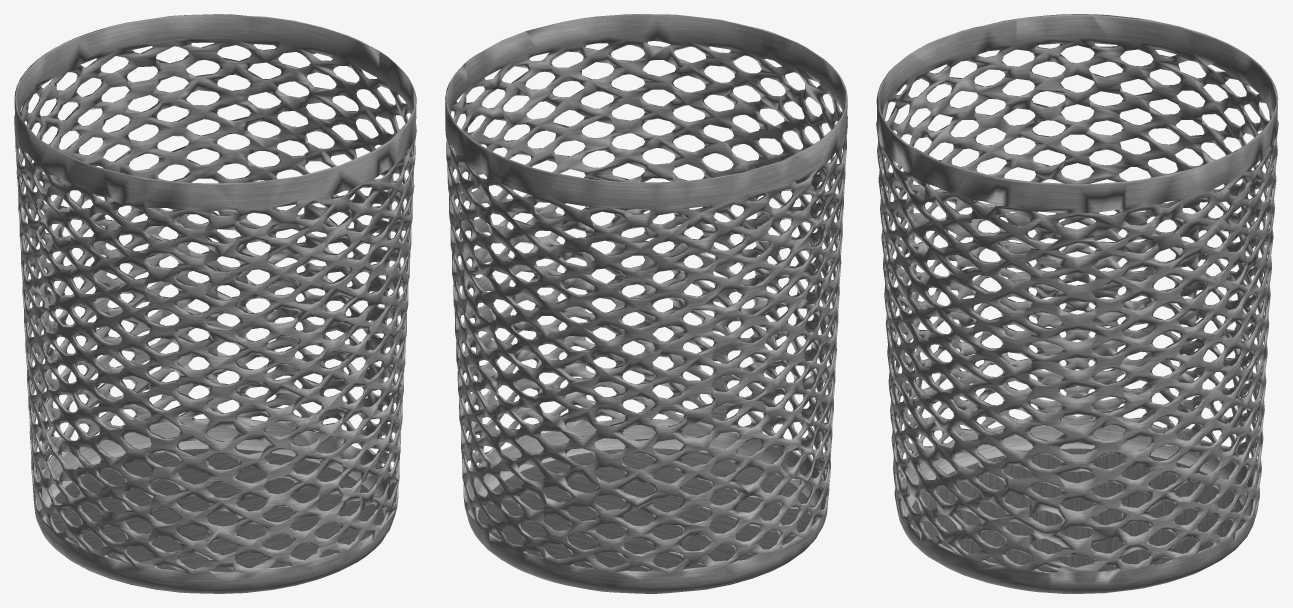
File: office_cubical_trash_bin.glb
3 views of the same model, side by side, from view 1: azimuth 30°, elevation 25°; view 2: azimuth 150°, elevation 25°; view 3: azimuth 270°, elevation 25° (orthographic).
Visible parts, largest first — view 1: pCylinder1; view 2: pCylinder1; view 3: pCylinder1.
Boxes of the visible parts, x1,y1,x2,y2 form: pCylinder1: (14, 14, 416, 593); pCylinder1: (445, 14, 847, 593); pCylinder1: (876, 14, 1278, 593).
Size of the model in its own units: 1.49 by 1.74 by 1.49.
1 material, 1 textured.
